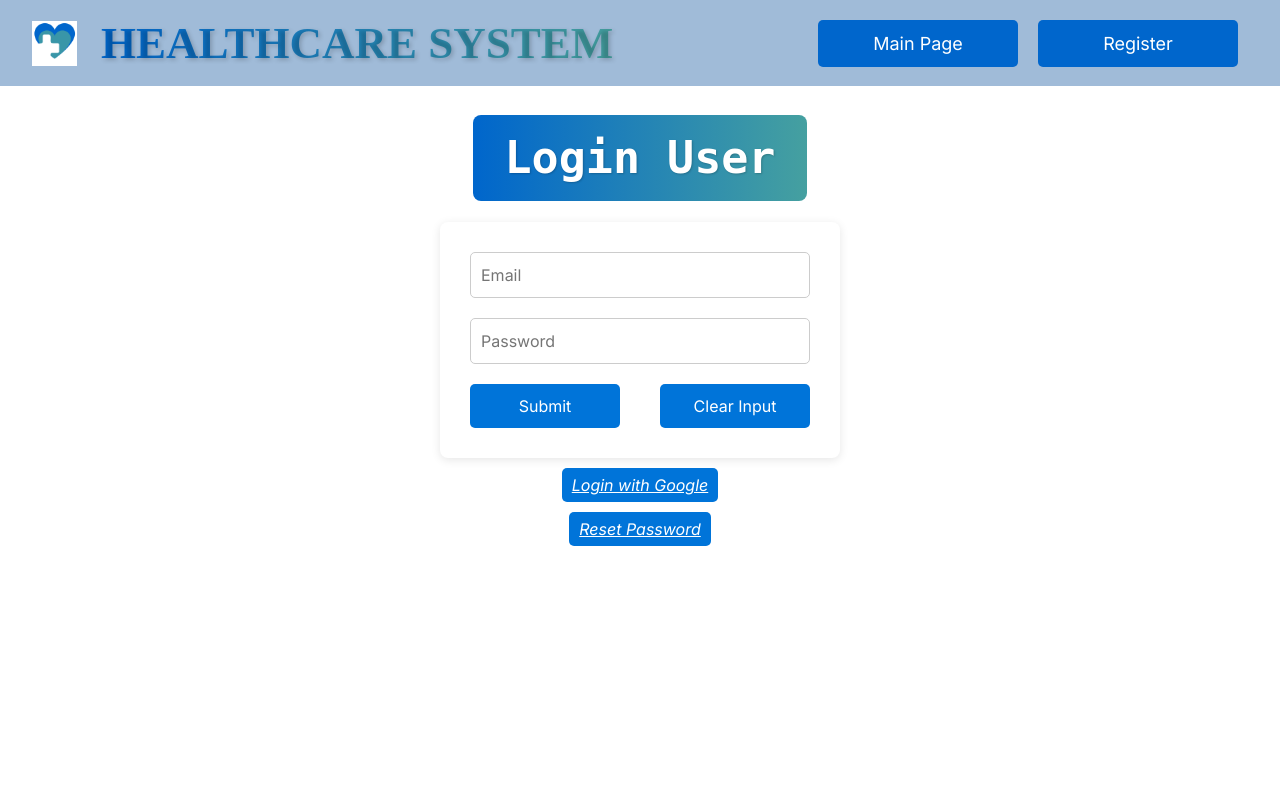
Login › should show error messages on invalid login
The width and height of the screenshot is (1280, 800).
// Fill in the form with invalid credentials
Type "test@user.app" into the field named "email".
click(640, 275); type("test@user.app")  # box [470,252,810,298]
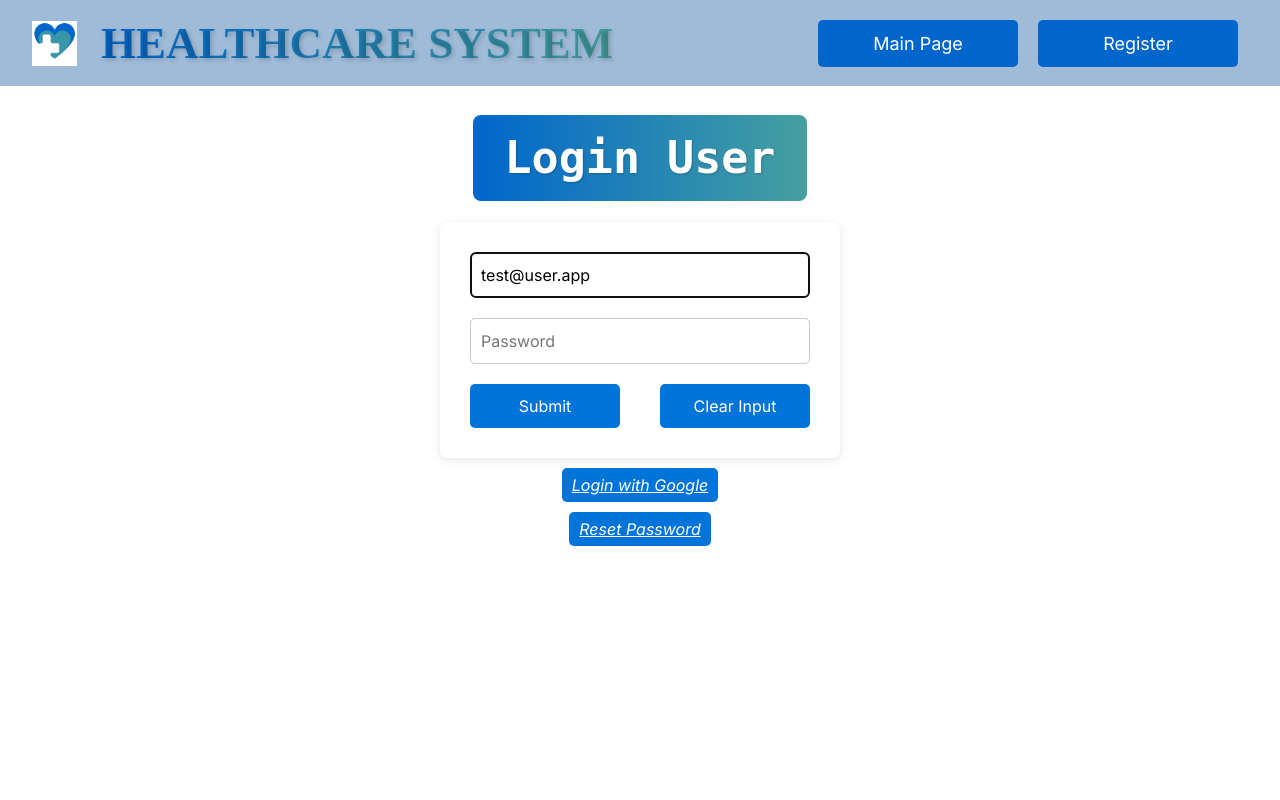
Type "WrongPassword!" into the field named "password".
click(640, 341); type("WrongPassword!")  # box [470,318,810,364]
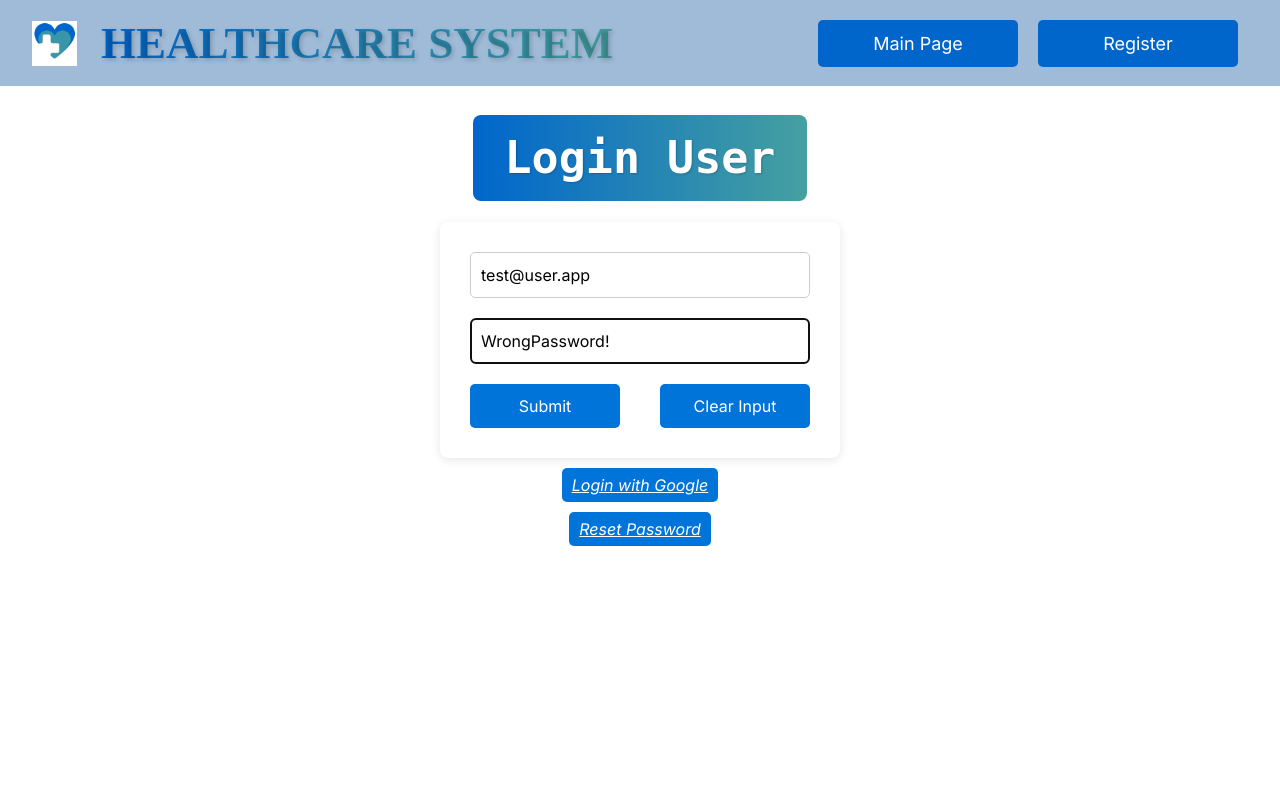
Click the button with class "add-button-submit".
click(545, 406)  # box [470,384,620,428]
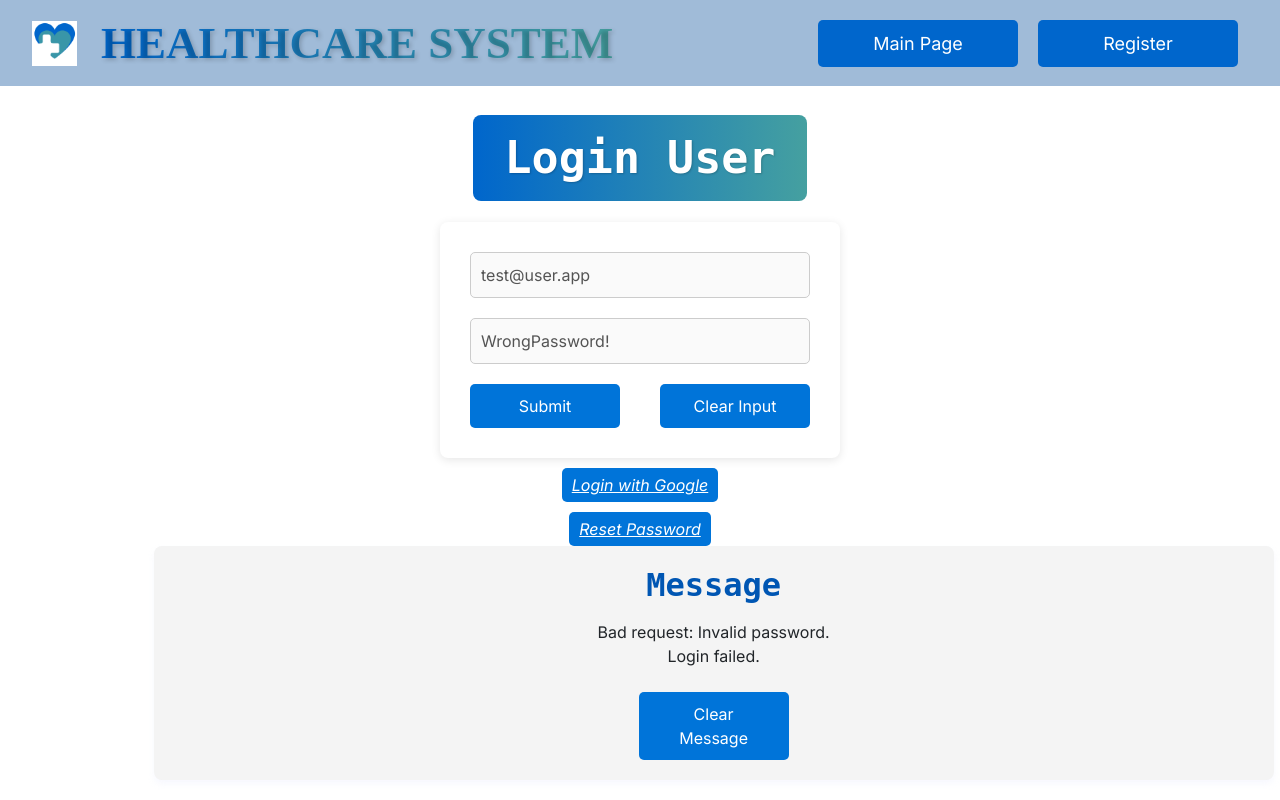
Expected: the element that starts with "Message" is shown, [0,546,1279,780]
Expected: the text "Bad request: Invalid password." is shown, [598,622,830,642]
Expected: the text "Login failed." is shown, [667,646,760,666]
